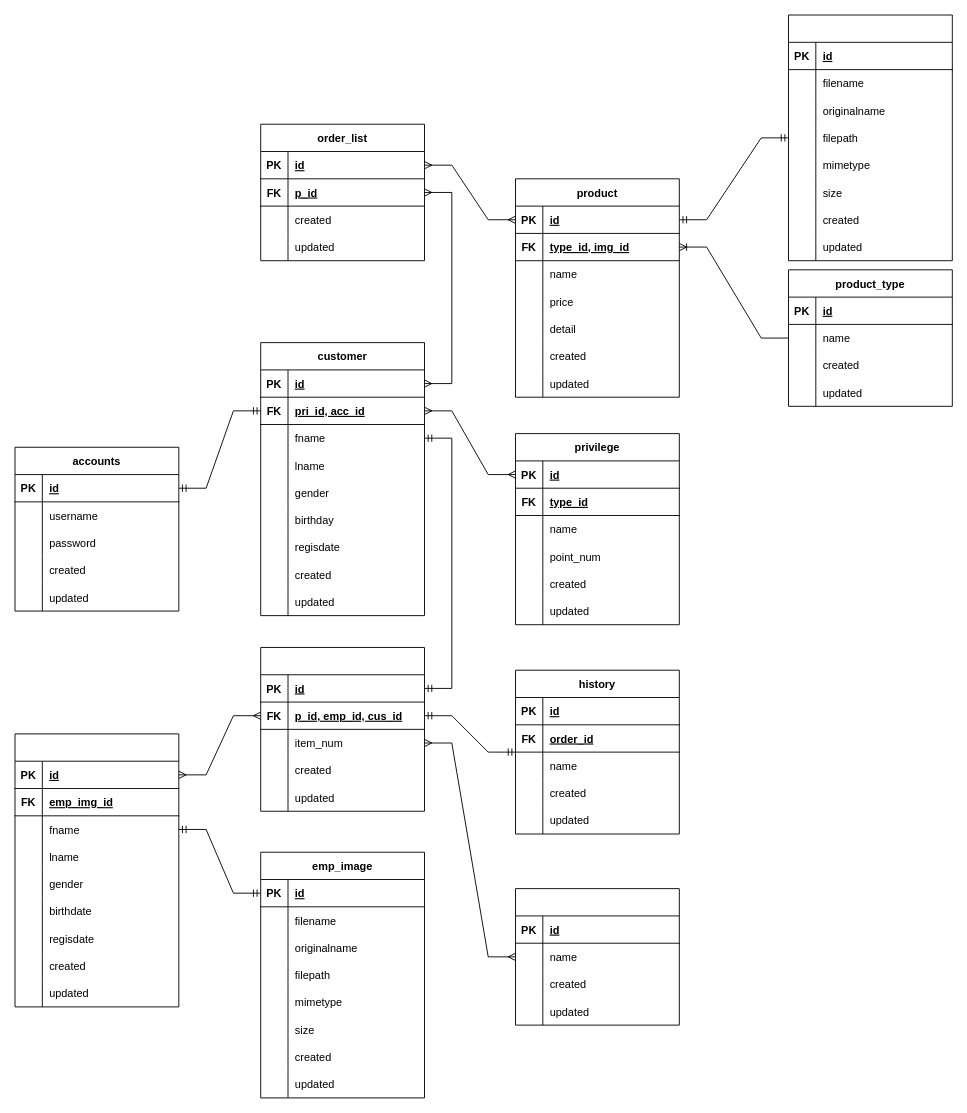
Some shapes in this 967 by 1113 pixel diagram are drawn without their labels. Each missing label, with the box of its shape:
employee: (14, 733, 179, 1007)
image: (788, 14, 952, 261)
order: (260, 647, 425, 811)
table: (515, 888, 679, 1025)
